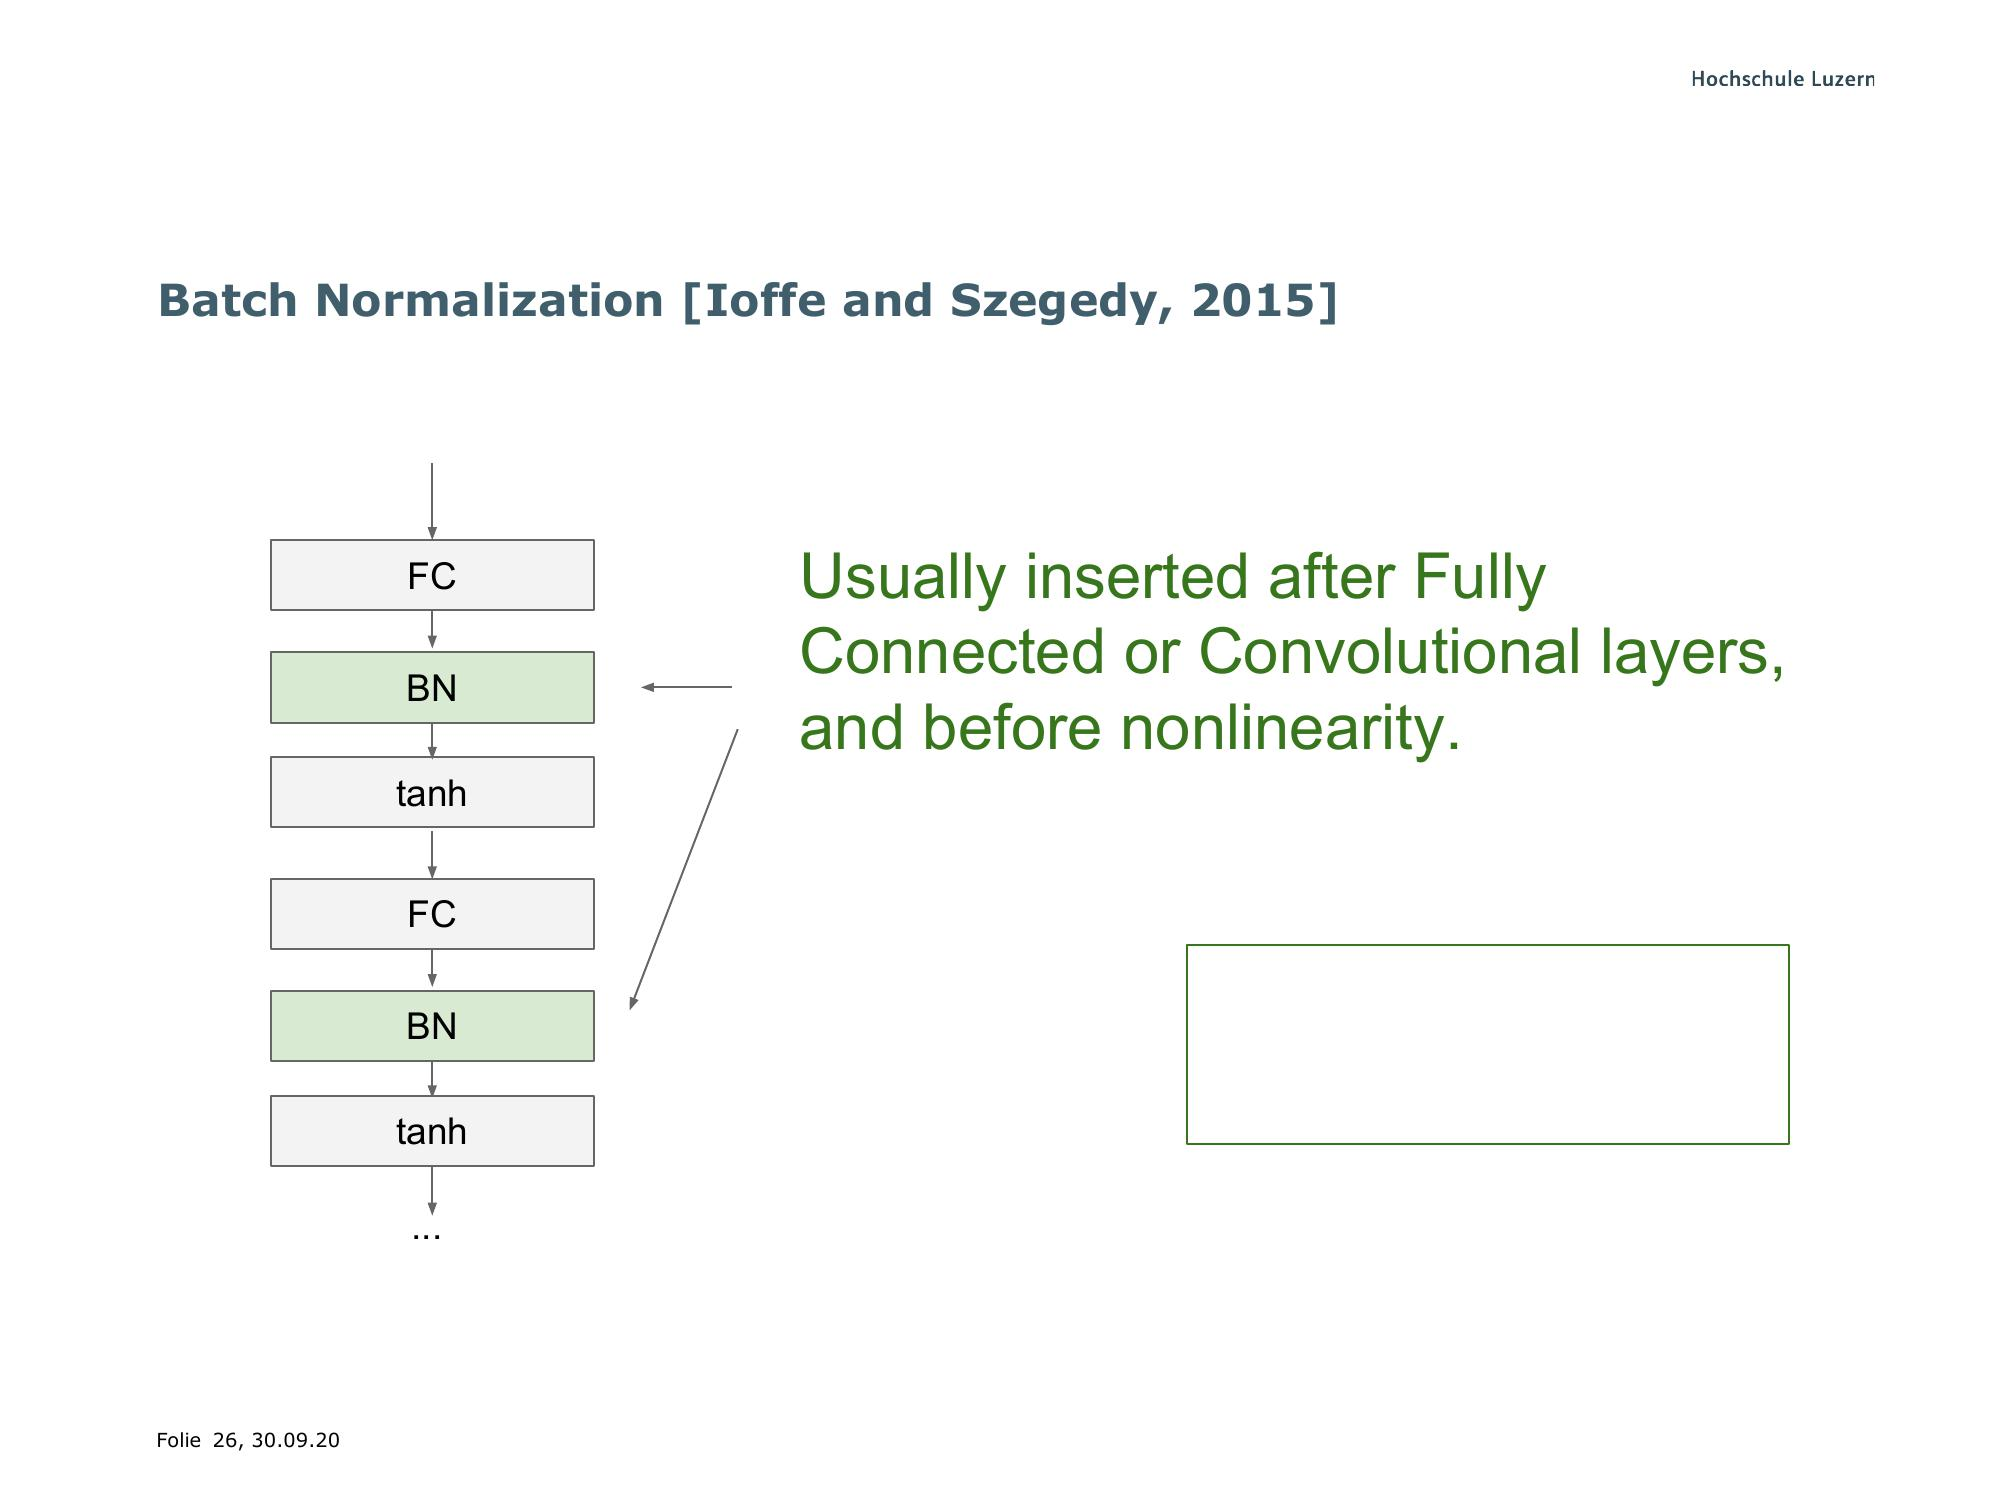Title: (131, 249, 1354, 347)
